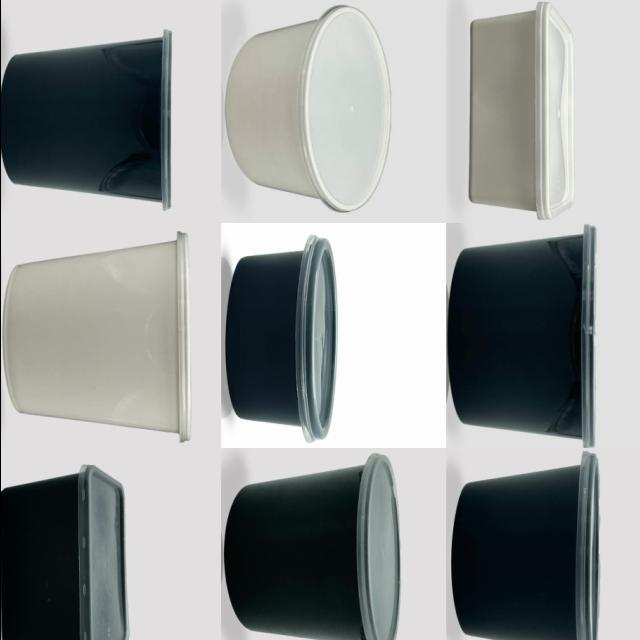plastik: (2, 233, 190, 442), (225, 6, 389, 213), (447, 225, 595, 448), (225, 454, 399, 640), (0, 31, 170, 210), (451, 452, 599, 640), (225, 235, 337, 442), (469, 2, 573, 219), (0, 465, 128, 640)
